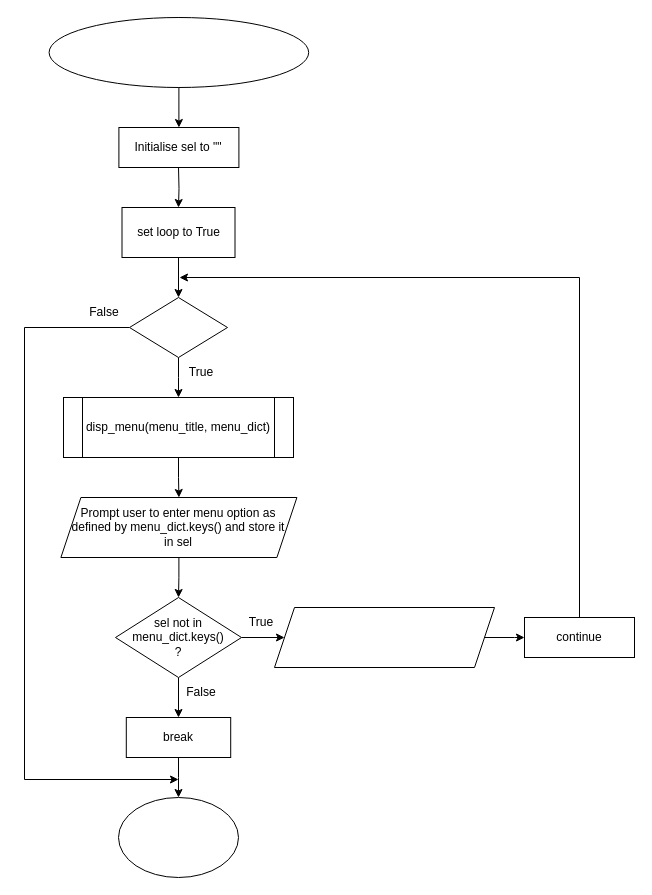
Image size: 652x895. Some labels were removed from this diagram. The shapes that lost their labels are listed below. From the top down, each one's centre as x and y in pixels, then its label:
(x=178, y=52): START menu_select(menu_title: str, item_to_select: str, menu_dict: dict)
(x=178, y=327): loop
(x=384, y=637): Display "Option selected is invalid! Please try again"
(x=178, y=837): Return menu_dict.get(sel)[1]
